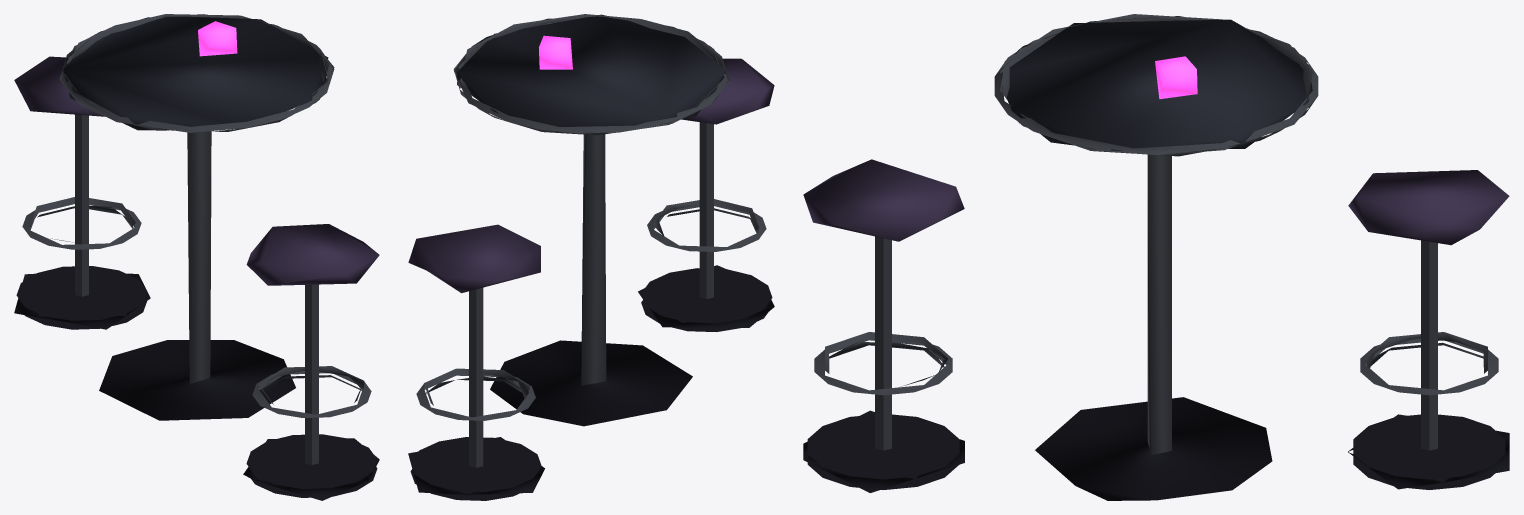
Rendered from lod_bar_stool_table.glb.
3 renders of one model, left to right at view 1: azimuth 30°, elevation 25°; view 2: azimuth 150°, elevation 25°; view 3: azimuth 270°, elevation 25°, orthographic. The views are drawn at different scales.
Parts seen in each view (by area): view 1: bar_stool_table; view 2: bar_stool_table; view 3: bar_stool_table.
Boxes of the visible parts, x1,y1,x2,y2 form: bar_stool_table: [14, 14, 379, 500]; bar_stool_table: [408, 14, 774, 500]; bar_stool_table: [803, 14, 1509, 500].
Size of the model in its own units: 0.838 by 1.16 by 1.81.
